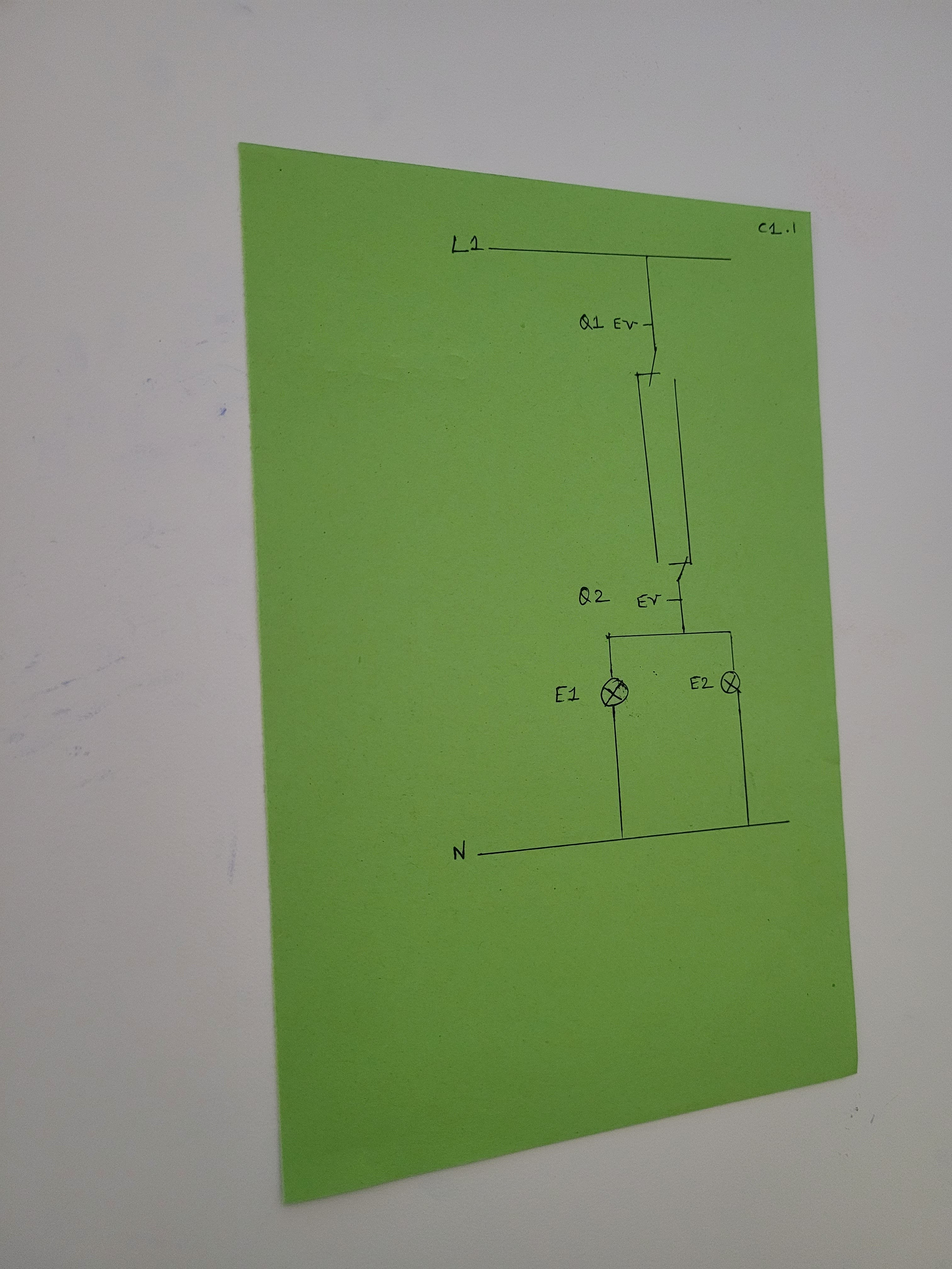junction: (616, 831, 628, 843), (603, 630, 614, 642), (743, 819, 755, 830), (640, 251, 651, 261), (725, 627, 735, 637), (679, 629, 688, 637)
lamp: (598, 676, 630, 709), (719, 668, 743, 695)
switch: (612, 315, 677, 389), (635, 555, 695, 610)
terminal: (473, 847, 486, 860), (723, 254, 735, 264), (784, 816, 794, 826), (485, 245, 495, 253)
text: (450, 232, 485, 254), (576, 585, 610, 606), (552, 684, 580, 704), (688, 672, 715, 692), (578, 313, 606, 332), (450, 838, 470, 862)
